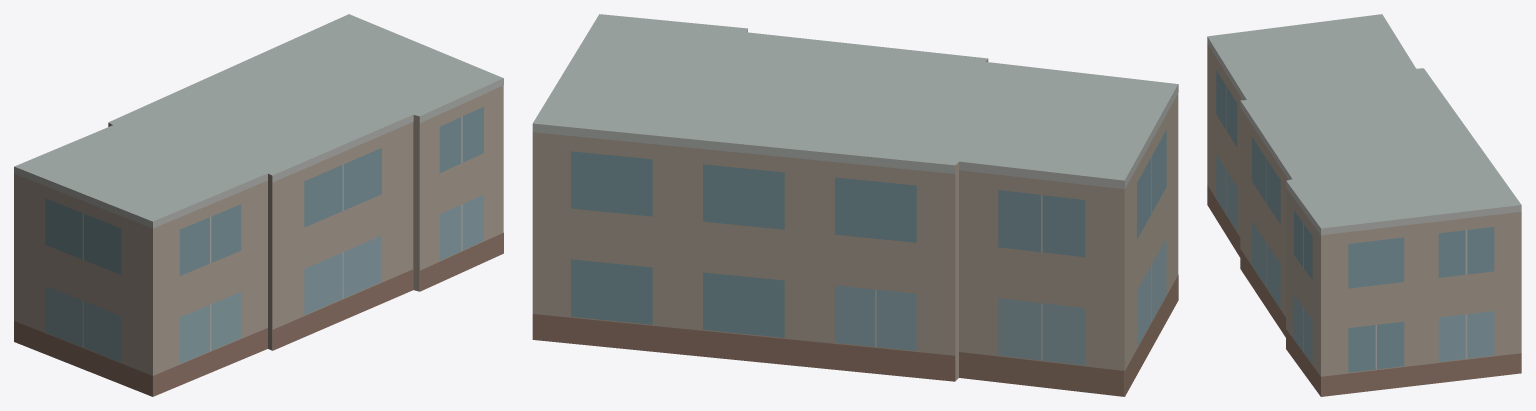
The model's file is survey-upis-32678336.glb.
3 views of the same model, side by side, from view 1: azimuth 30°, elevation 25°; view 2: azimuth 150°, elevation 25°; view 3: azimuth 270°, elevation 25° (orthographic). The views are drawn at different scales.
Parts seen in each view (by area): view 1: survey-upis-32678336.tmp; view 2: survey-upis-32678336.tmp; view 3: survey-upis-32678336.tmp.
Part boxes in pixels (<box>): survey-upis-32678336.tmp: <box>14,14,503,396</box>; survey-upis-32678336.tmp: <box>532,14,1178,396</box>; survey-upis-32678336.tmp: <box>1207,14,1521,396</box>.
Size of the model in its own units: 16.68 by 6.1 by 10.33.
